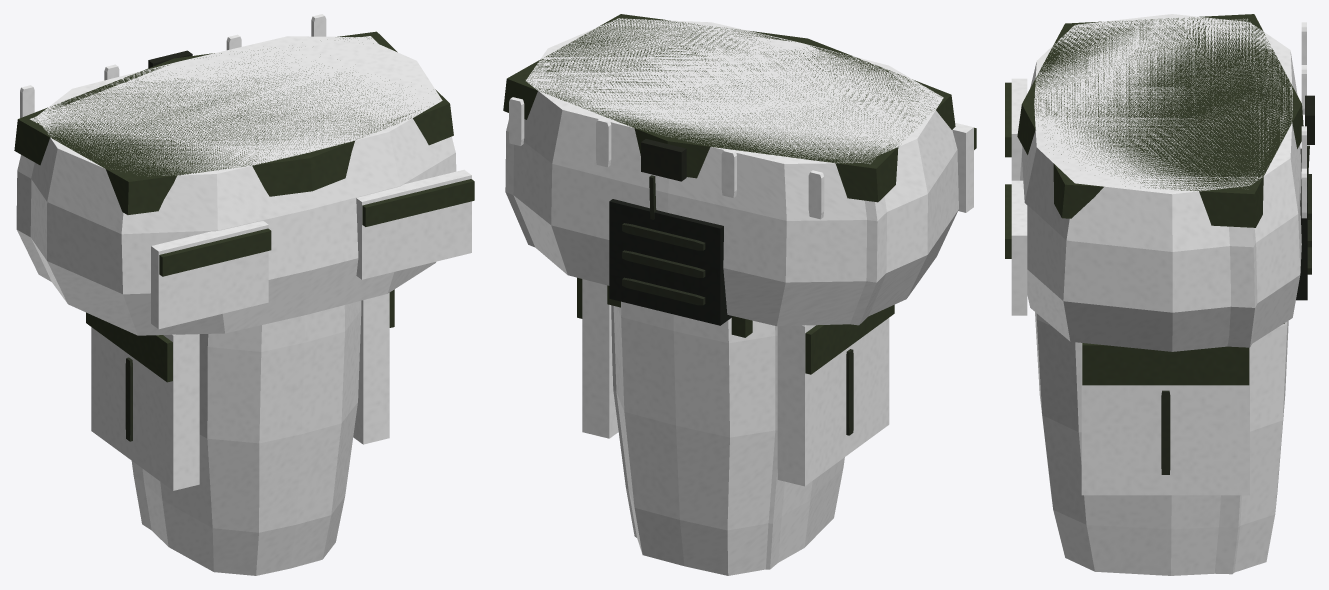
File: trousers_g4.glb
The picture shows the model from 3 angles, left to right: view 1: azimuth 30°, elevation 25°; view 2: azimuth 150°, elevation 25°; view 3: azimuth 270°, elevation 25°; orthographic projection. The views are drawn at different scales.
Visible parts, largest first — view 1: trousers_g4_pelvis_LOD0_RAID_cloth.001, trousers_g4_thighL_LOD0_RAID_cloth.001, trousers_g4_pelvis_LOD1_RAID_cloth.001, trousers_g4_pelvis_LOD0_RAID_reinforce.001, trousers_g4_thighL_LOD1_RAID_cloth.001, trousers_g4_thighR_LOD1_RAID_cloth.001, trousers_g4_pelvis_LOD1_RAID_reinforce.001, trousers_g4_thighL_LOD0_RAID_reinforce.001, trousers_g4_thighR_LOD0_RAID_cloth.001, trousers_g4_thighL_LOD0_RAID_seam.001; view 2: trousers_g4_pelvis_LOD0_RAID_cloth.001, trousers_g4_thighL_LOD0_RAID_cloth.001, trousers_g4_pelvis_LOD0_RAID_reinforce.001, trousers_g4_thighL_LOD1_RAID_cloth.001, trousers_g4_shinL_LOD0_RAID_rubber.001, trousers_g4_pelvis_LOD1_RAID_cloth.001, trousers_g4_shinL_LOD1_RAID_rubber.001, trousers_g4_thighR_LOD1_RAID_cloth.001, trousers_g4_shinL_LOD0_RAID_seam.001, trousers_g4_thighR_LOD0_RAID_cloth.001, trousers_g4_thighL_LOD0_RAID_reinforce.001, trousers_g4_pelvis_LOD1_RAID_zip.001 (+2 smaller); view 3: trousers_g4_pelvis_LOD0_RAID_cloth.001, trousers_g4_pelvis_LOD0_RAID_reinforce.001, trousers_g4_thighL_LOD0_RAID_cloth.001, trousers_g4_thighR_LOD0_RAID_cloth.001, trousers_g4_pelvis_LOD1_RAID_cloth.001, trousers_g4_thighR_LOD1_RAID_cloth.001, trousers_g4_thighR_LOD0_RAID_reinforce.001, trousers_g4_thighR_LOD1_RAID_reinforce.001, trousers_g4_thighL_LOD1_RAID_cloth.001, trousers_g4_thighR_LOD0_RAID_seam.001, trousers_g4_pelvis_LOD1_RAID_reinforce.001, trousers_g4_shinL_LOD0_RAID_rubber.001 (+1 smaller).
Part boxes in pixels (x1=…): trousers_g4_pelvis_LOD0_RAID_cloth.001: x1=20, y1=14, x2=471, y2=335; trousers_g4_thighL_LOD0_RAID_cloth.001: x1=91, y1=301, x2=361, y2=575; trousers_g4_pelvis_LOD1_RAID_cloth.001: x1=16, y1=36, x2=471, y2=329; trousers_g4_pelvis_LOD0_RAID_reinforce.001: x1=14, y1=31, x2=474, y2=274; trousers_g4_thighL_LOD1_RAID_cloth.001: x1=91, y1=327, x2=199, y2=530; trousers_g4_thighR_LOD1_RAID_cloth.001: x1=353, y1=293, x2=389, y2=444; trousers_g4_pelvis_LOD1_RAID_reinforce.001: x1=159, y1=179, x2=474, y2=276; trousers_g4_thighL_LOD0_RAID_reinforce.001: x1=87, y1=313, x2=172, y2=378; trousers_g4_thighR_LOD0_RAID_cloth.001: x1=361, y1=296, x2=389, y2=418; trousers_g4_thighL_LOD0_RAID_seam.001: x1=125, y1=357, x2=132, y2=441; trousers_g4_pelvis_LOD0_RAID_cloth.001: x1=509, y1=18, x2=973, y2=326; trousers_g4_thighL_LOD0_RAID_cloth.001: x1=613, y1=301, x2=889, y2=575; trousers_g4_pelvis_LOD0_RAID_reinforce.001: x1=503, y1=14, x2=976, y2=202; trousers_g4_thighL_LOD1_RAID_cloth.001: x1=611, y1=305, x2=889, y2=569; trousers_g4_shinL_LOD0_RAID_rubber.001: x1=609, y1=202, x2=726, y2=323; trousers_g4_pelvis_LOD1_RAID_cloth.001: x1=505, y1=26, x2=973, y2=325; trousers_g4_shinL_LOD1_RAID_rubber.001: x1=609, y1=199, x2=731, y2=325; trousers_g4_thighR_LOD1_RAID_cloth.001: x1=582, y1=279, x2=618, y2=438; trousers_g4_shinL_LOD0_RAID_seam.001: x1=622, y1=223, x2=705, y2=305; trousers_g4_thighR_LOD0_RAID_cloth.001: x1=582, y1=285, x2=618, y2=433; trousers_g4_thighL_LOD0_RAID_reinforce.001: x1=805, y1=308, x2=893, y2=370; trousers_g4_pelvis_LOD1_RAID_zip.001: x1=641, y1=139, x2=686, y2=181; trousers_g4_pelvis_LOD0_RAID_cloth.001: x1=1011, y1=14, x2=1306, y2=351; trousers_g4_pelvis_LOD0_RAID_reinforce.001: x1=1005, y1=14, x2=1303, y2=256; trousers_g4_thighL_LOD0_RAID_cloth.001: x1=1035, y1=312, x2=1288, y2=575; trousers_g4_thighR_LOD0_RAID_cloth.001: x1=1081, y1=348, x2=1249, y2=495; trousers_g4_pelvis_LOD1_RAID_cloth.001: x1=1011, y1=18, x2=1291, y2=347; trousers_g4_thighR_LOD1_RAID_cloth.001: x1=1081, y1=343, x2=1249, y2=495; trousers_g4_thighR_LOD0_RAID_reinforce.001: x1=1082, y1=344, x2=1249, y2=385; trousers_g4_thighR_LOD1_RAID_reinforce.001: x1=1082, y1=343, x2=1249, y2=385; trousers_g4_thighL_LOD1_RAID_cloth.001: x1=1214, y1=495, x2=1241, y2=574; trousers_g4_thighR_LOD0_RAID_seam.001: x1=1161, y1=390, x2=1170, y2=474; trousers_g4_pelvis_LOD1_RAID_reinforce.001: x1=1005, y1=82, x2=1011, y2=258; trousers_g4_shinL_LOD0_RAID_rubber.001: x1=1298, y1=170, x2=1307, y2=286.
Bounding box in the file's own units: 0.404 × 0.438 × 0.2775.
Materials: 5 (5 with a texture image).
